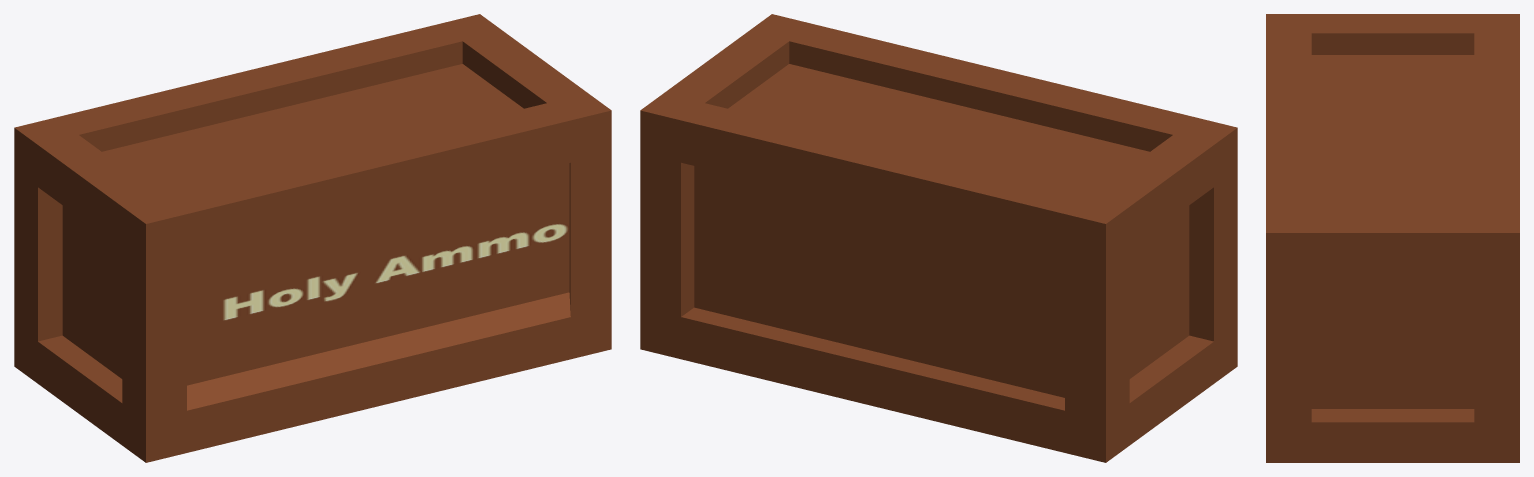
File: Ammo_Box.fbx
3 views of the same model, side by side, from view 1: azimuth 30°, elevation 25°; view 2: azimuth 150°, elevation 25°; view 3: azimuth 270°, elevation 25° (orthographic). The views are drawn at different scales.
Parts seen in each view (by area): view 1: Cube; view 2: Cube; view 3: Cube.
Boxes of the visible parts, x1=… form: Cube: x1=14, y1=14, x2=611, y2=462; Cube: x1=640, y1=14, x2=1237, y2=462; Cube: x1=1266, y1=14, x2=1519, y2=462.
Bounding box in the file's own units: 408 × 200 × 200.
Materials: 1 (1 with a texture image).
